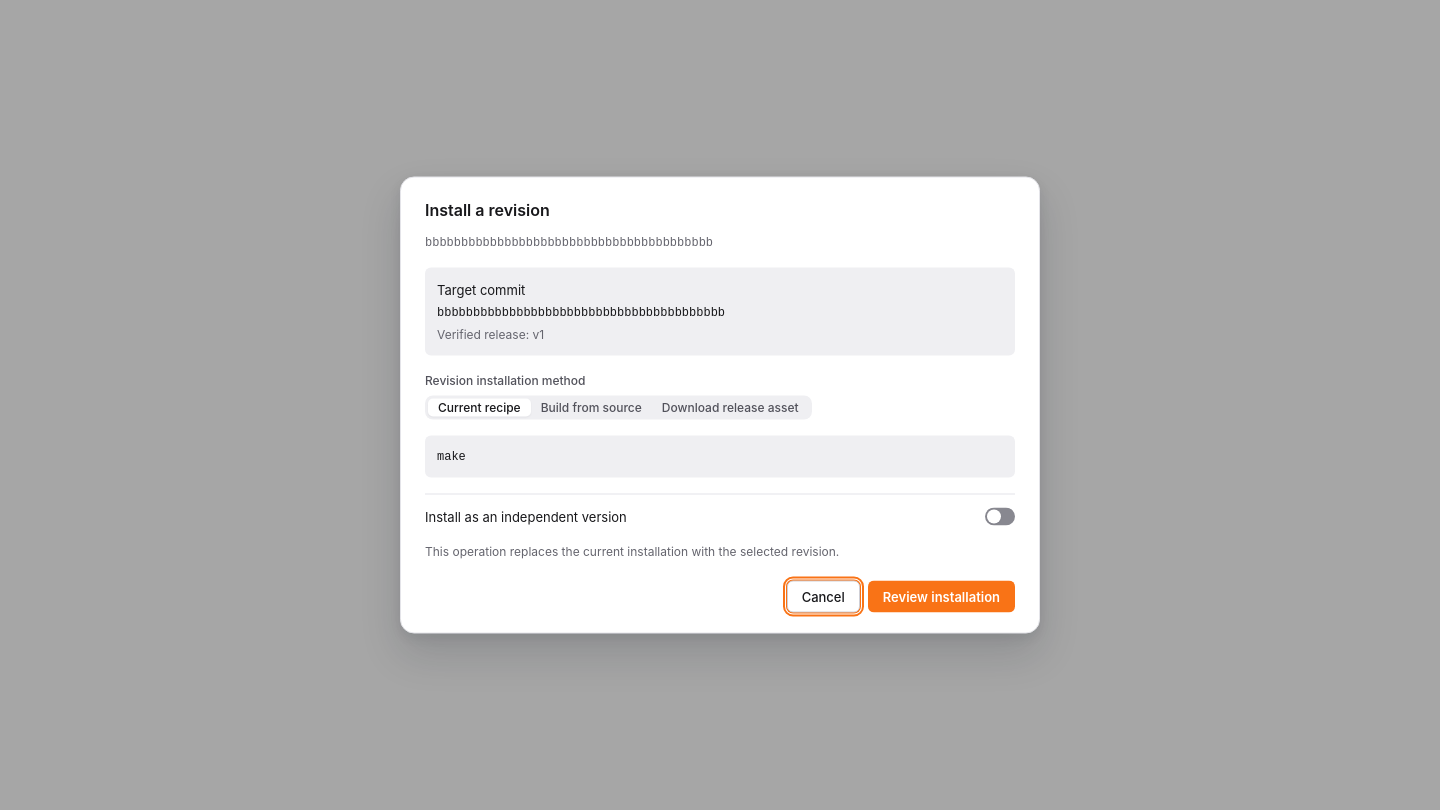
Test: blocks installation when its read-only plan fails validation
Expected: the text "Target commit" is shown, [437,282,525,298]
When the user requests installation review.
Click the button "Review installation" at (941, 596), box [868,580,1015,612]
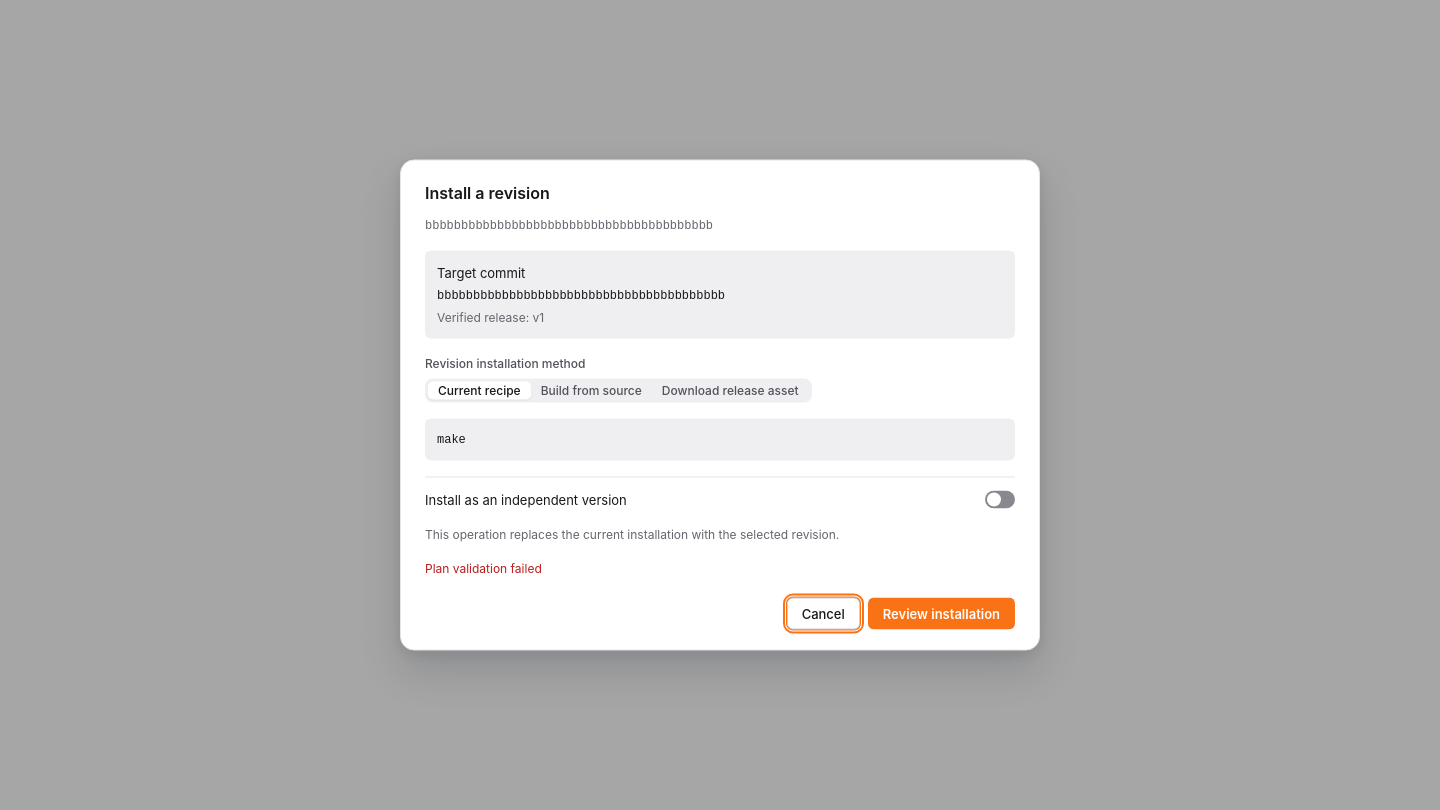
Result: the message reads "Plan validation failed" at [425,560,542,576]
